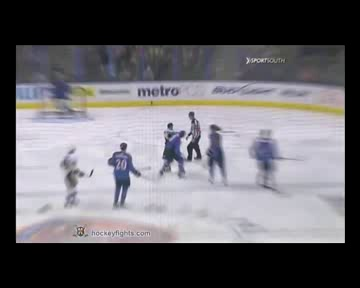normal: (156, 107, 205, 181), (55, 144, 98, 209), (106, 141, 141, 207)
